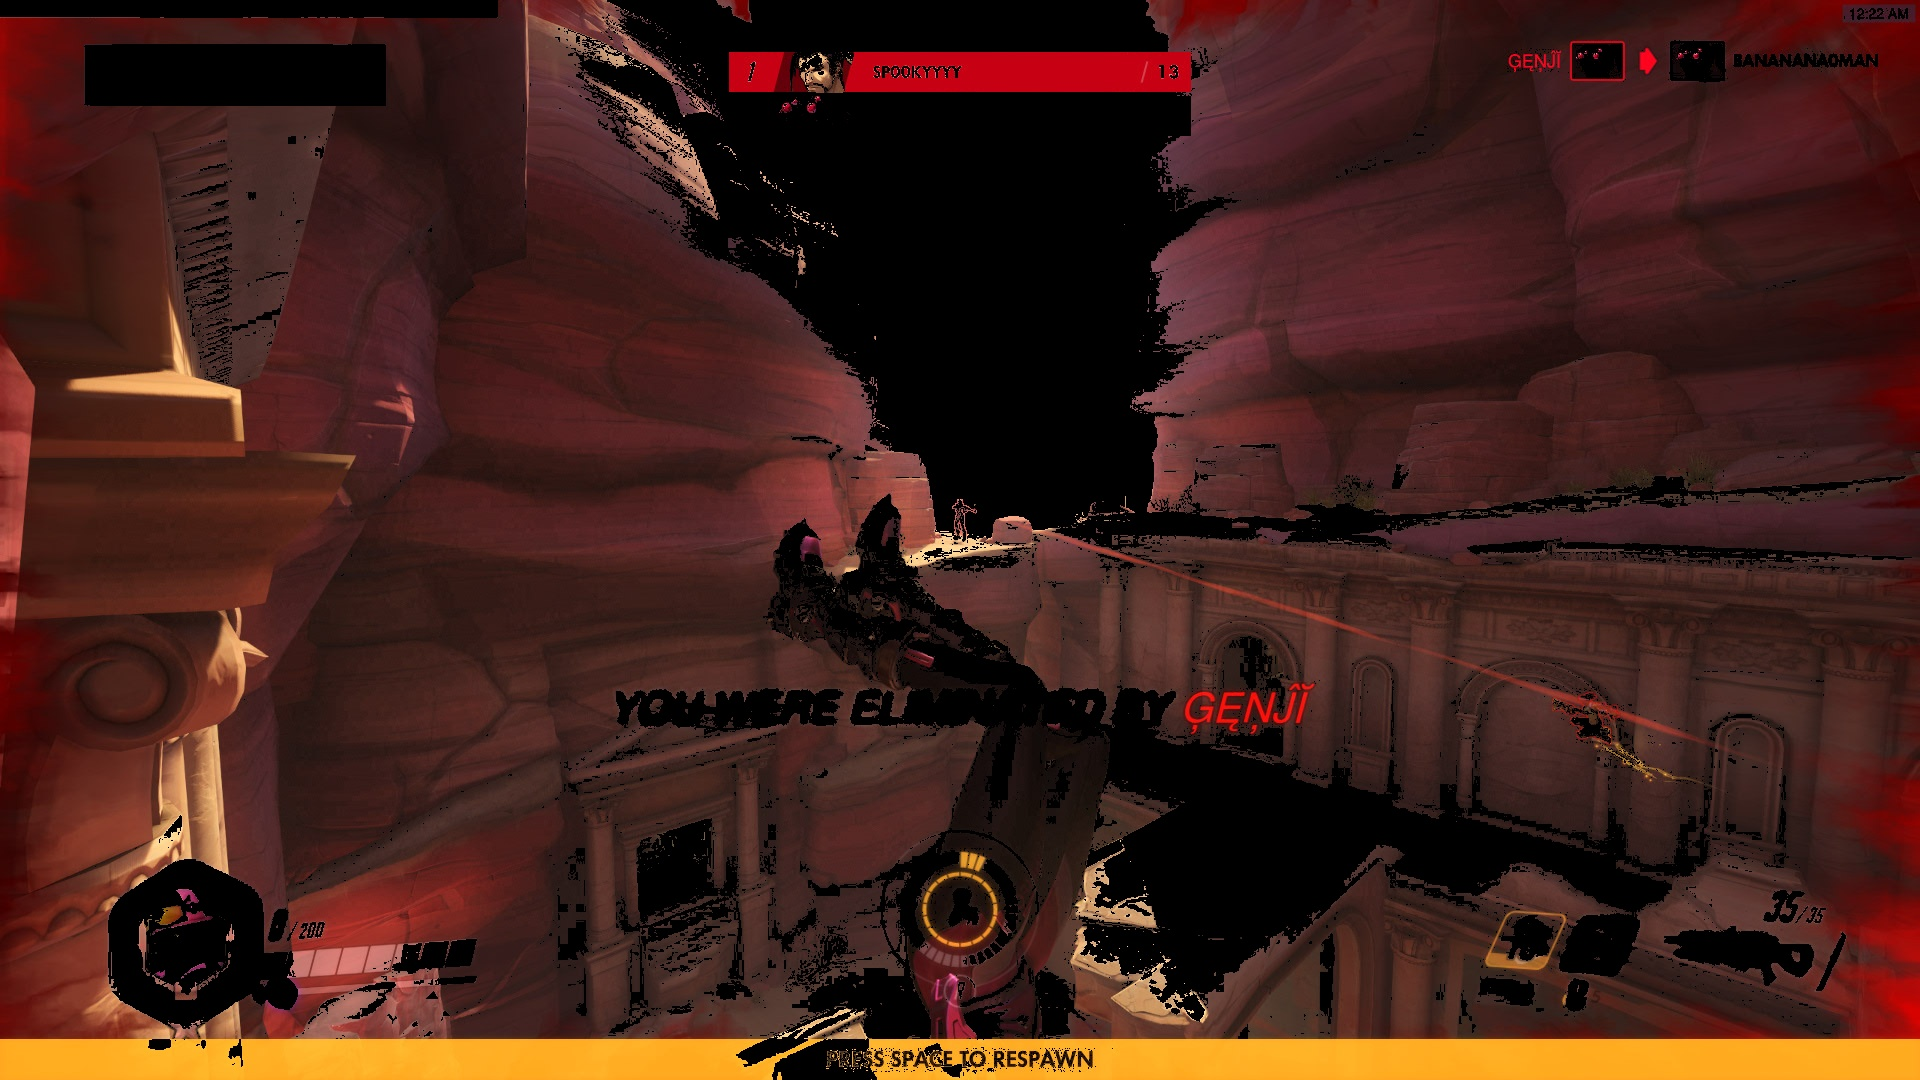widowmaker: (949, 496, 978, 545)
